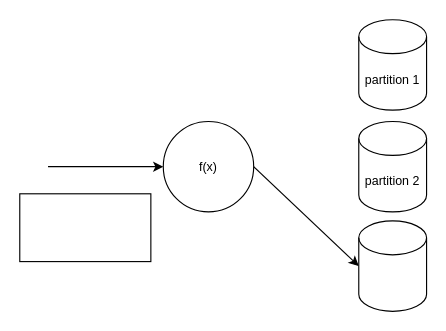
Image size: 446x331. Some labels were removed from this diagram. Each missing label, with the box of its shape:
Item 3 txn_id: 3 (partition key): (19, 193, 151, 262)
partition 3: (358, 220, 427, 311)
